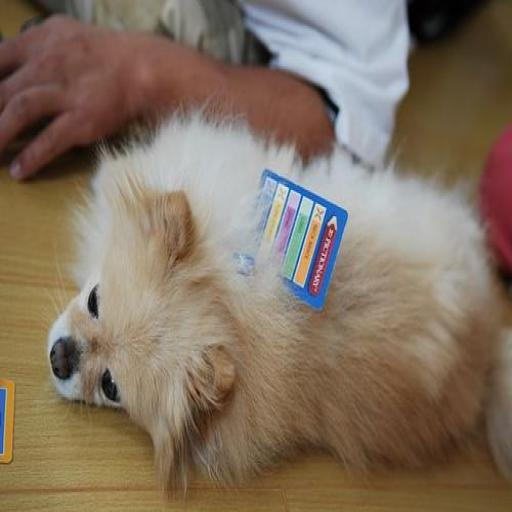dog_face: (39, 202, 227, 444)
